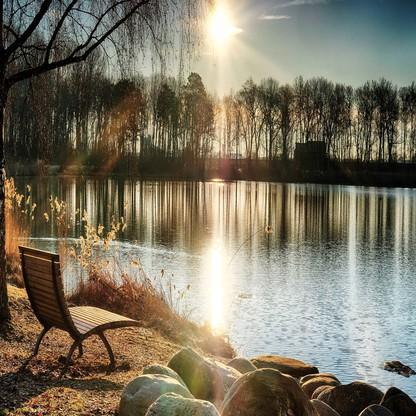obstacle: (14, 240, 143, 381)
